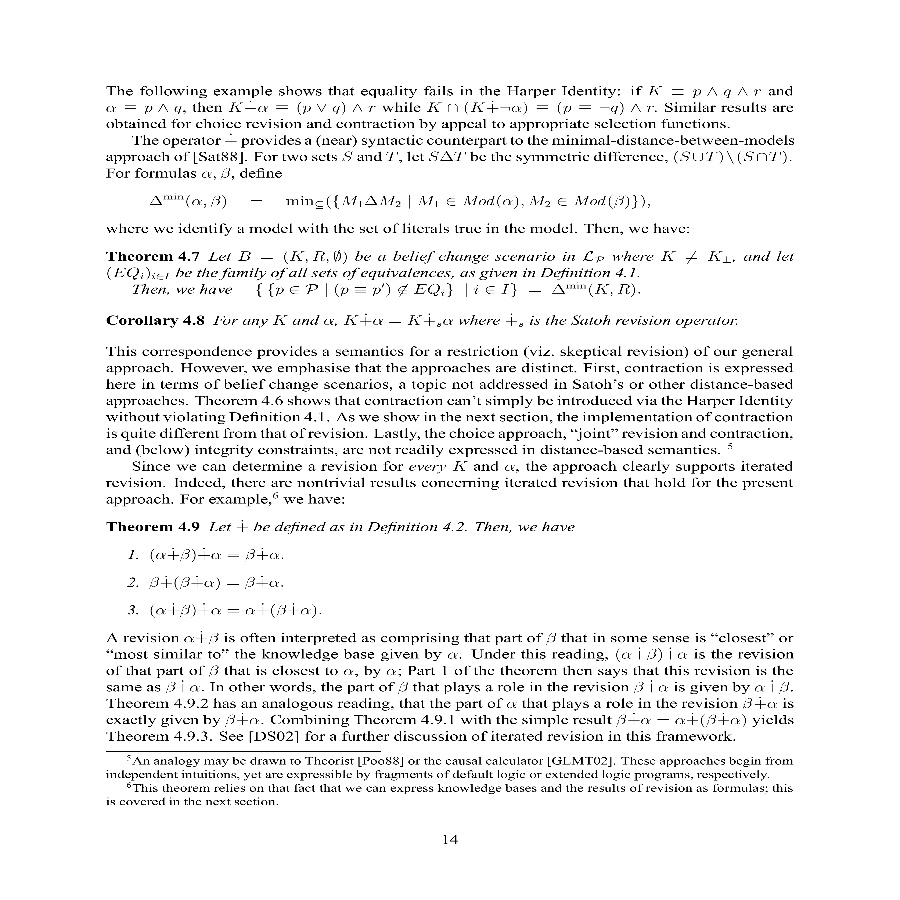eq: (149, 192, 648, 211), (253, 282, 637, 298), (144, 600, 321, 623), (146, 545, 284, 567), (147, 573, 282, 589)
